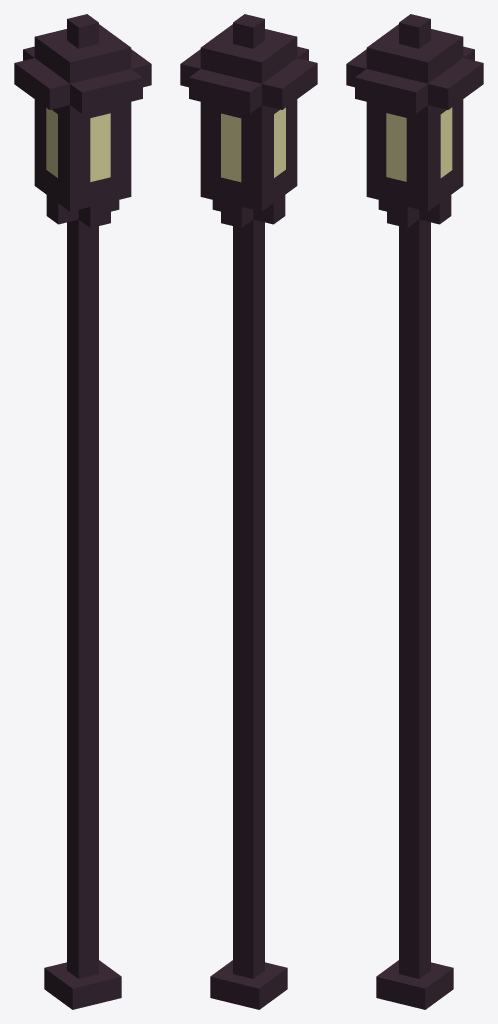
The model's file is street_light.FBX.
The picture shows the model from 3 angles, left to right: view 1: azimuth 30°, elevation 25°; view 2: azimuth 150°, elevation 25°; view 3: azimuth 330°, elevation 25°; orthographic projection.
Parts seen in each view (by area): view 1: street_light; view 2: street_light; view 3: street_light.
Boxes of the visible parts, left/top/right/bottom form: street_light: left=14, top=14, right=151, bottom=1009; street_light: left=180, top=14, right=317, bottom=1009; street_light: left=346, top=14, right=483, bottom=1009.
Size of the model in its own units: 10 by 91.21 by 10.
1 material, 1 textured.
